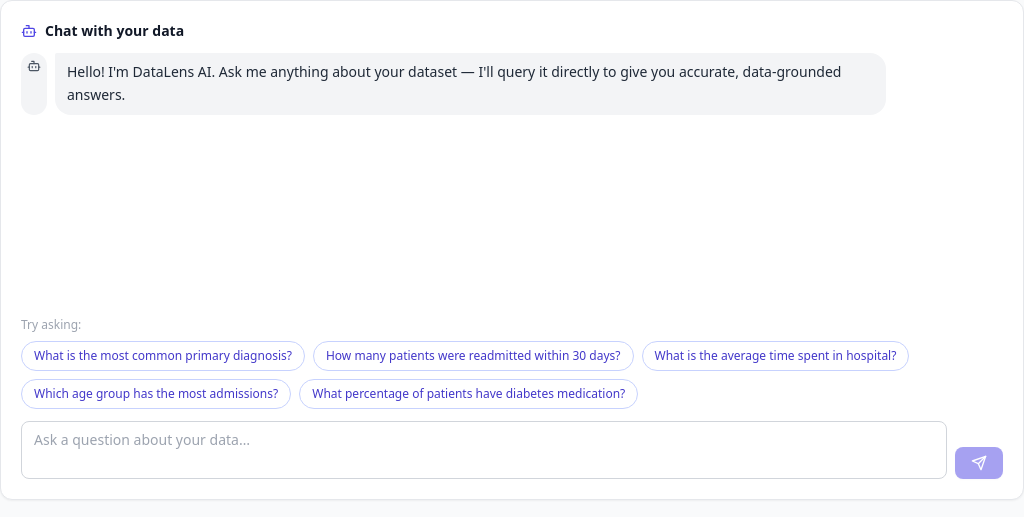
ChatPanel › send button is enabled when input has text
Type "Which country has the most sales?" into the text box with test id "chat-input" at (484,450), box 21,421 -> 947,479
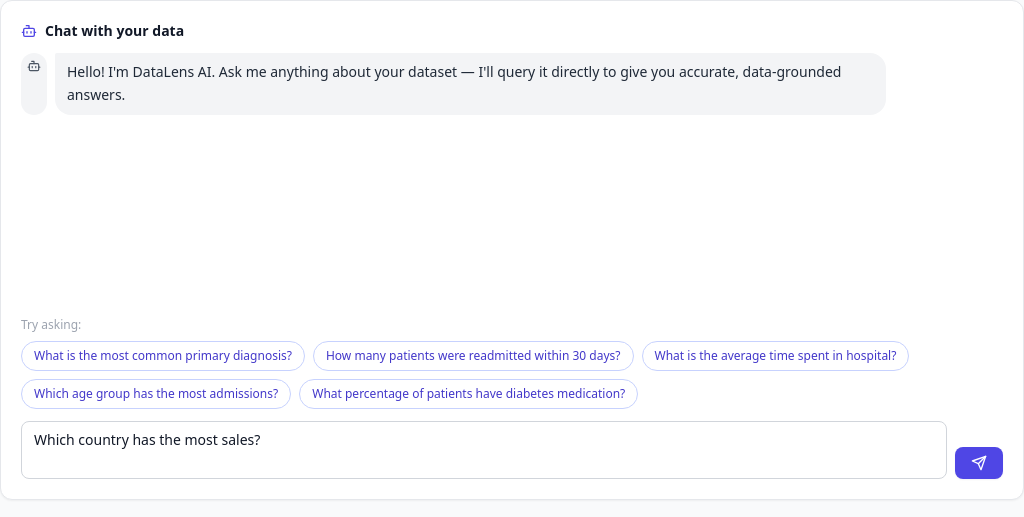
Now the button with test id "chat-send" is enabled, box 955,447 -> 1003,479
